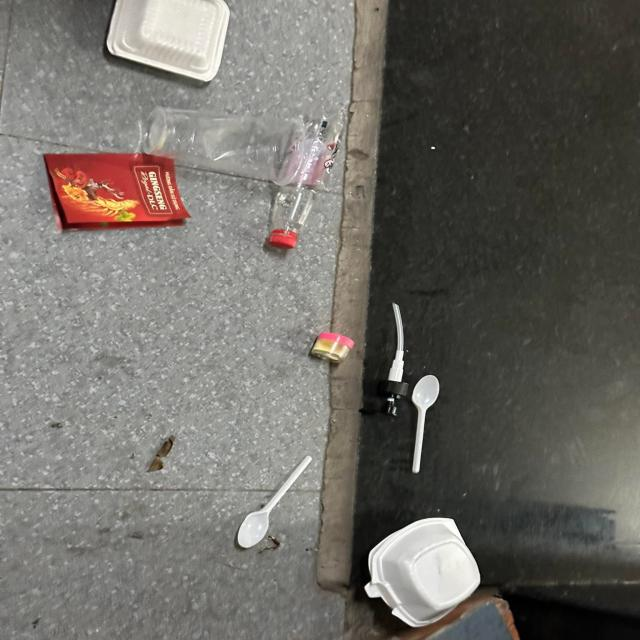bottle: (267, 104, 347, 249)
foam box: (364, 517, 482, 628), (105, 0, 231, 83)
paper: (44, 154, 190, 234)
plastic glass: (144, 107, 305, 188)
plastic holder: (310, 331, 357, 364)
plastic utensil: (236, 456, 312, 548), (412, 375, 439, 474)
